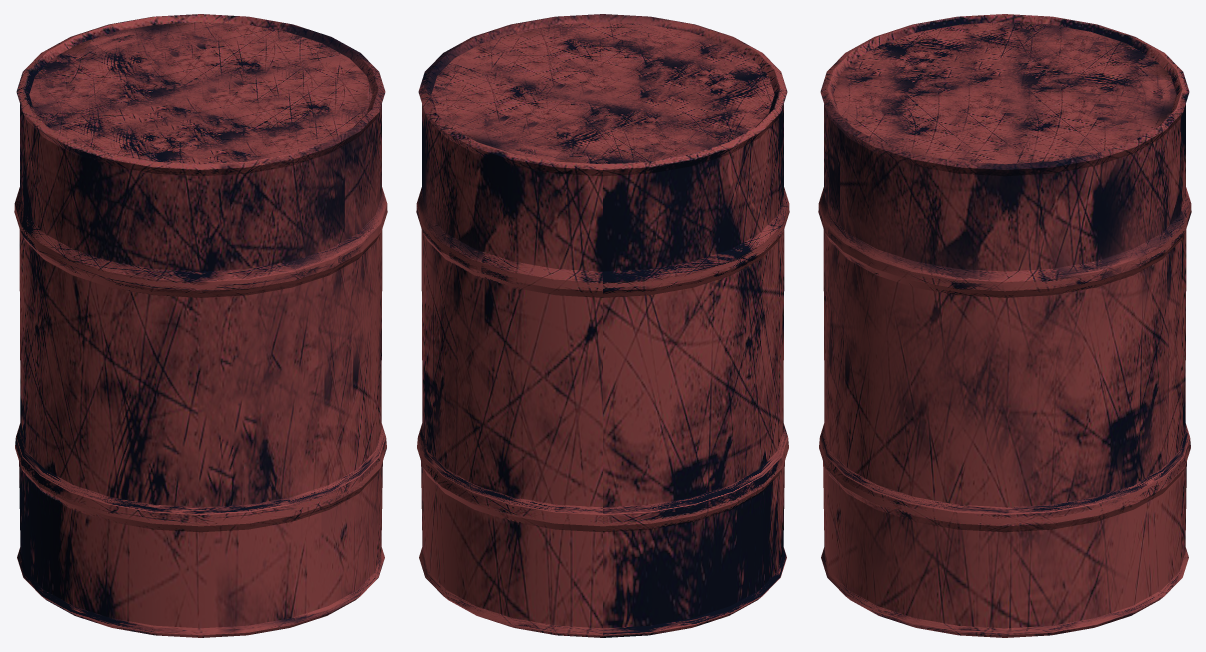
The model's file is newTambo.fbx.
The picture shows the model from 3 angles, left to right: view 1: azimuth 30°, elevation 25°; view 2: azimuth 150°, elevation 25°; view 3: azimuth 270°, elevation 25°; orthographic projection.
Visible parts, largest first — view 1: newTambo; view 2: newTambo; view 3: newTambo.
Part boxes in pixels (x1=…): newTambo: x1=14, y1=14, x2=387, y2=637; newTambo: x1=416, y1=14, x2=789, y2=637; newTambo: x1=818, y1=14, x2=1191, y2=637.
Size of the model in its own units: 32.34 by 45.28 by 32.34.
